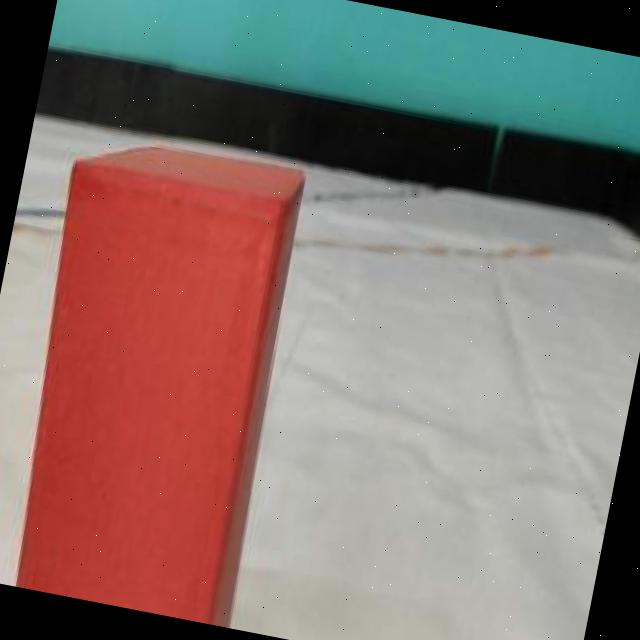redbox: (0, 121, 315, 627)
